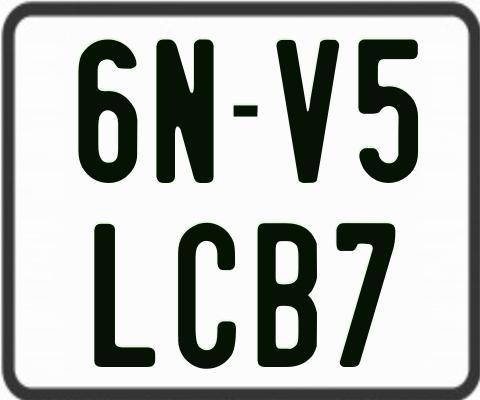5: (356, 39, 418, 185)
6: (76, 40, 140, 187)
7: (336, 222, 401, 370)
B: (255, 222, 319, 369)
C: (177, 220, 235, 368)
L: (94, 224, 159, 373)
N: (155, 36, 217, 185)
V: (277, 39, 341, 182)
